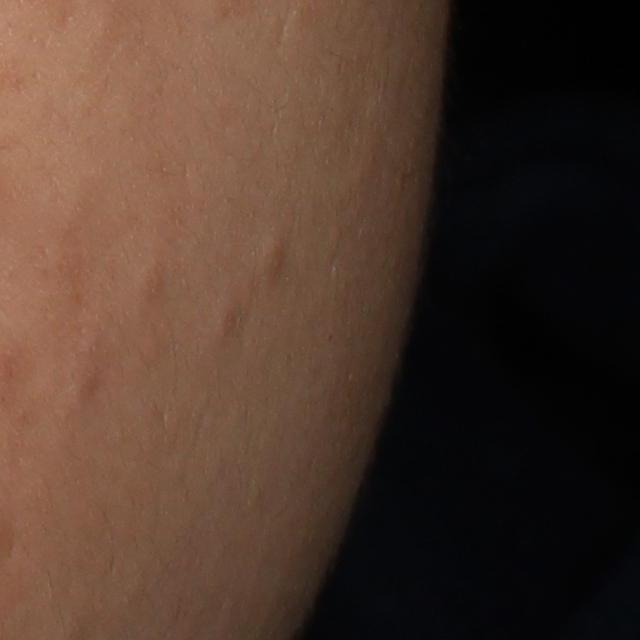comedo: (135, 254, 167, 305), (259, 237, 285, 281), (213, 305, 238, 341)
